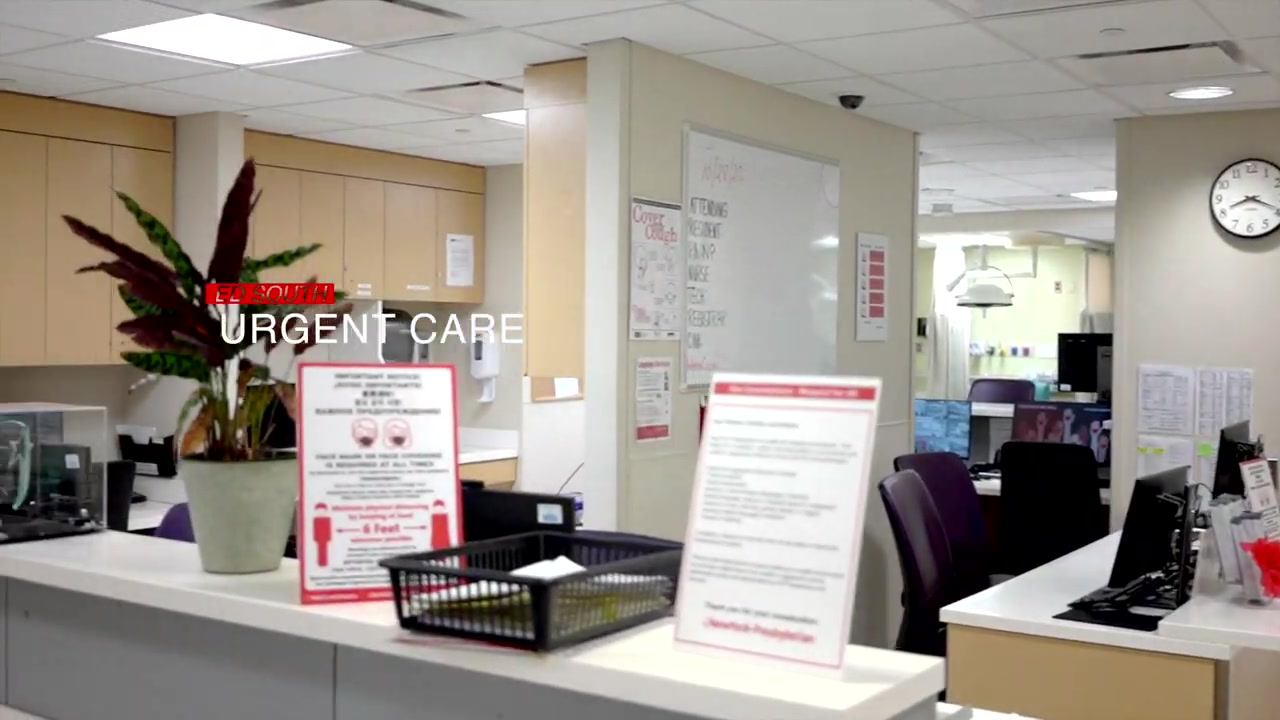cabinet: (1, 88, 176, 365), (246, 129, 487, 306)
chair: (878, 470, 977, 653), (893, 451, 1013, 595), (997, 443, 1109, 574), (970, 379, 1035, 409)
computer: (463, 485, 572, 591), (1111, 467, 1201, 591), (1009, 402, 1108, 472), (1057, 333, 1118, 391), (1213, 419, 1258, 496), (915, 398, 971, 459)
countertop: (1, 526, 946, 719), (937, 526, 1280, 661)
curtain: (930, 243, 971, 400)
dispenser: (467, 330, 500, 404)
keyboard: (1068, 575, 1149, 604)
mouse: (1089, 601, 1124, 615)
surgical_light: (955, 286, 1015, 315)
